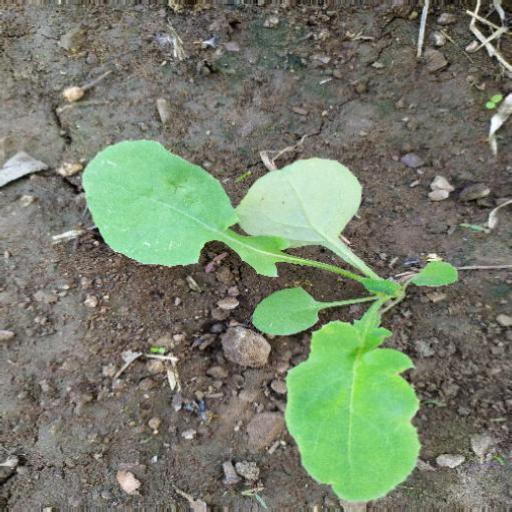weed: (76, 125, 460, 505)
